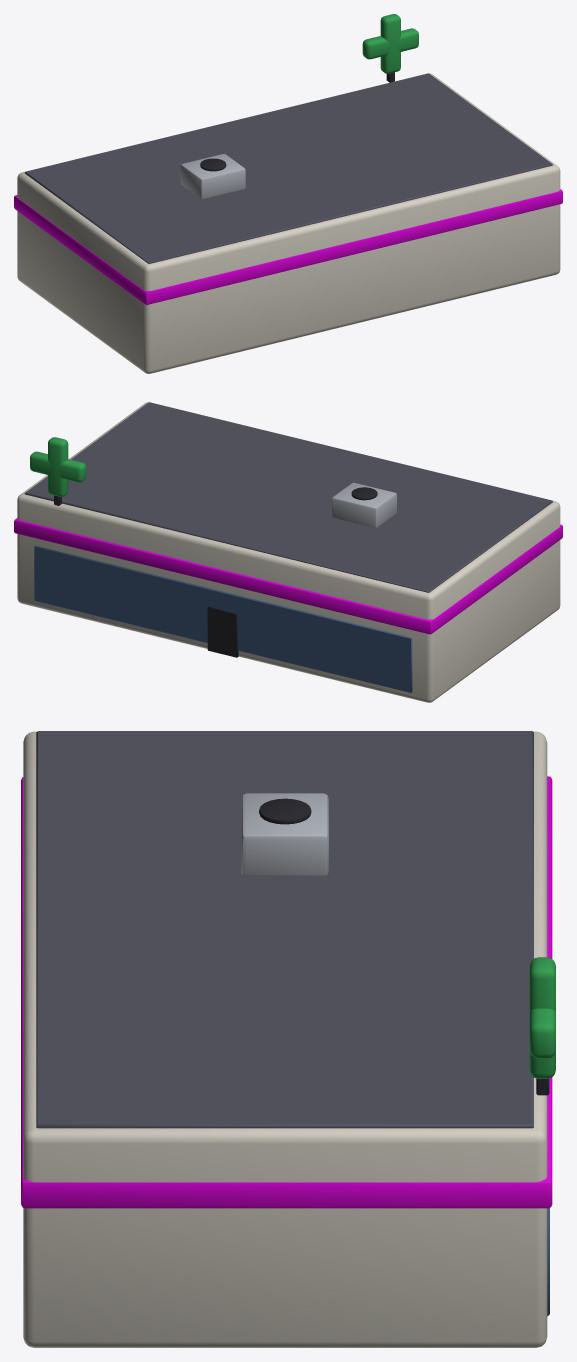
The model's file is Poi_Pharmacy.fbx.
3 renders of one model, top to bottom at view 1: azimuth 30°, elevation 25°; view 2: azimuth 150°, elevation 25°; view 3: azimuth 270°, elevation 25°, orthographic. The views are drawn at different scales.
Visible parts, largest first — view 1: Poi_Pharmacy; view 2: Poi_Pharmacy; view 3: Poi_Pharmacy.
Boxes of the visible parts, x1,y1,x2,y2 form: Poi_Pharmacy: [14, 14, 562, 373]; Poi_Pharmacy: [14, 402, 562, 702]; Poi_Pharmacy: [21, 731, 555, 1347].
Size of the model in its own units: 22.1 by 8.8 by 12.25.
